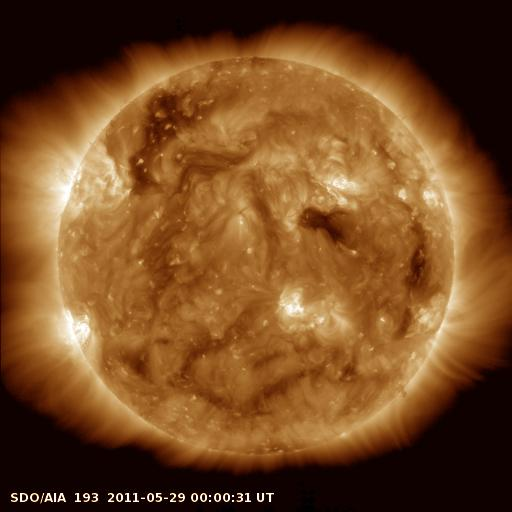coronal_hole: (125, 83, 213, 194), (294, 202, 353, 248), (399, 241, 441, 299)
